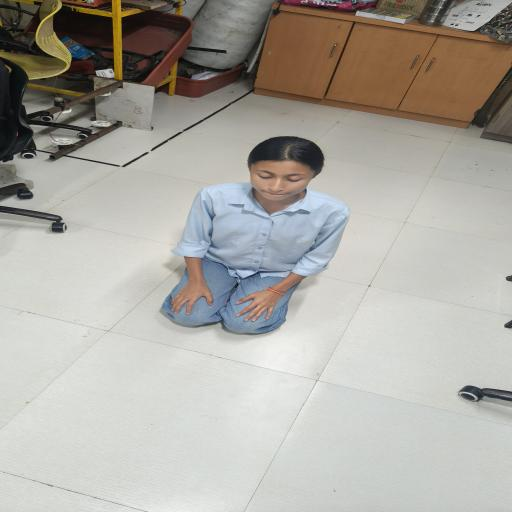survivor: (161, 136, 351, 335)
